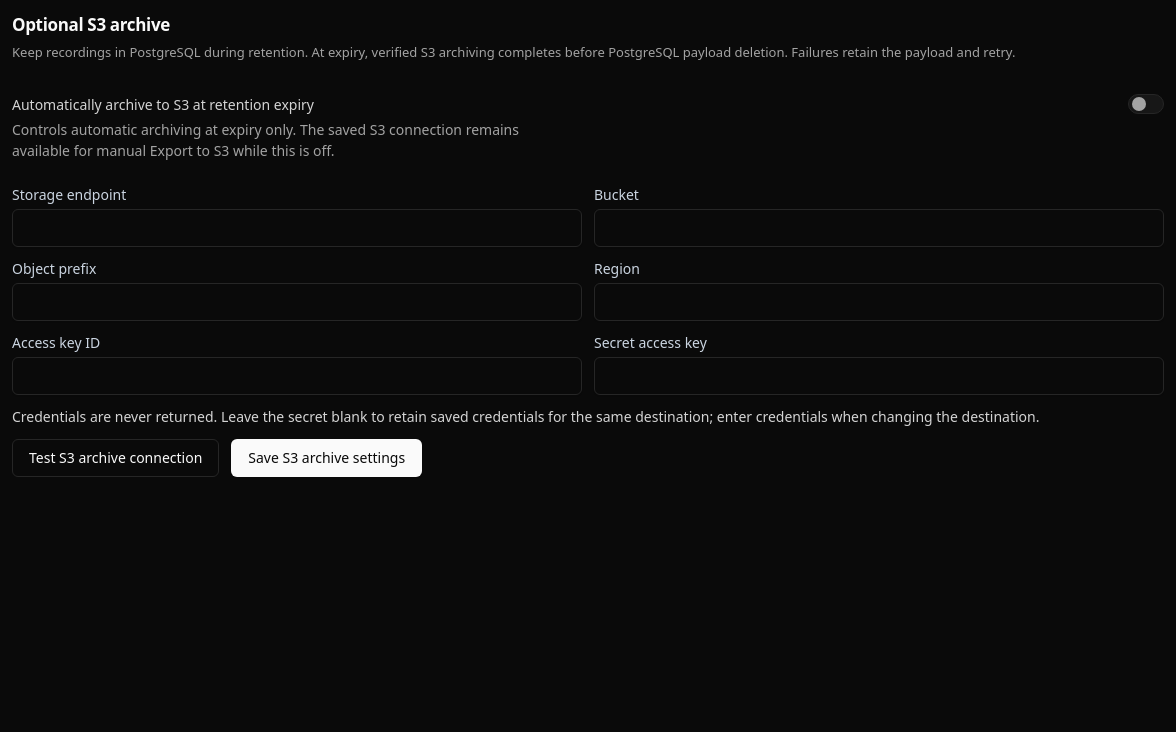
Test case: automatic S3 archive reuses storage validation and omits the primary provider from archive requests
Click the switch at [1146, 104], box [1128,94,1164,114]
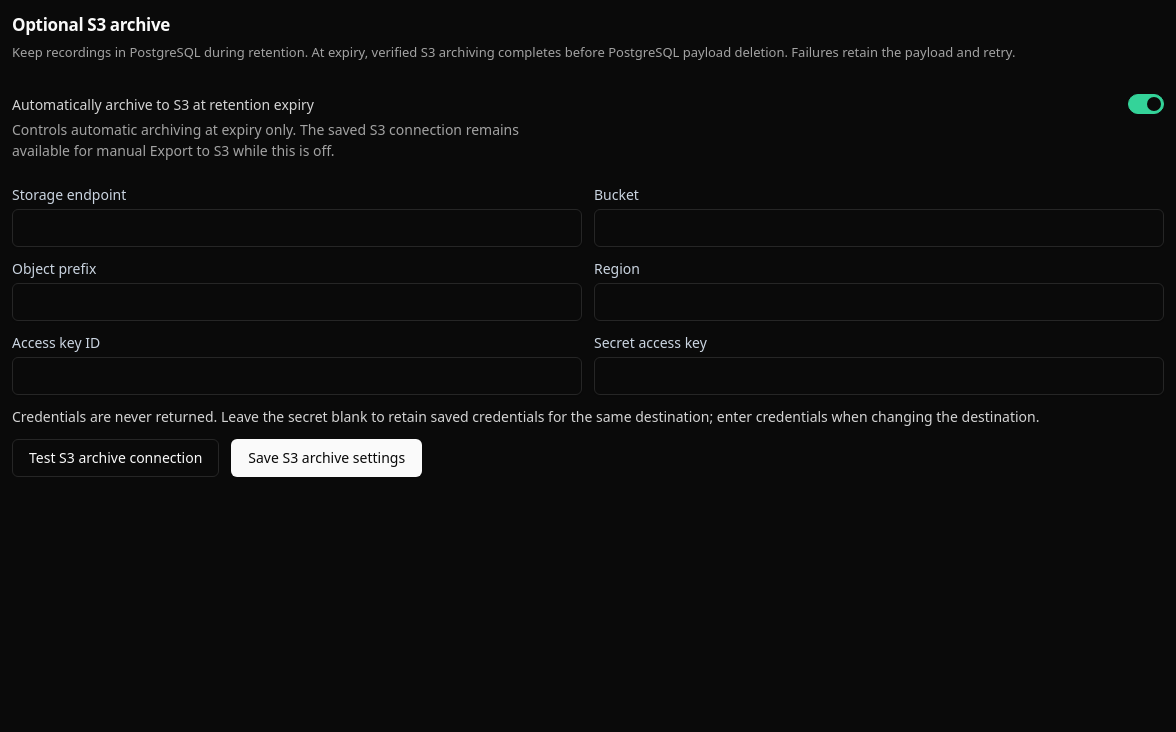
Type "https://archive.local" into the field labelled "Storage endpoint" at [297, 228], box [12,209,582,247]
Type "archives" into the field labelled "Bucket" at [879, 228], box [594,209,1164,247]
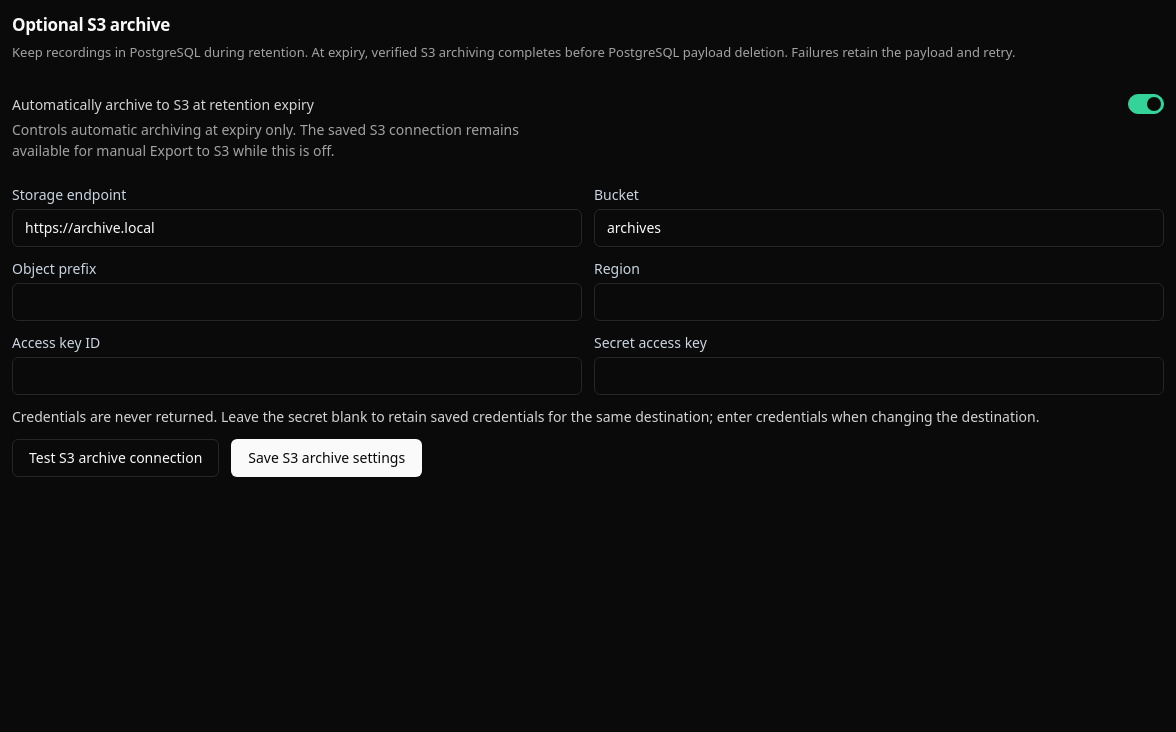
Type "local" into the field labelled "Region" at [879, 302], box [594,283,1164,321]
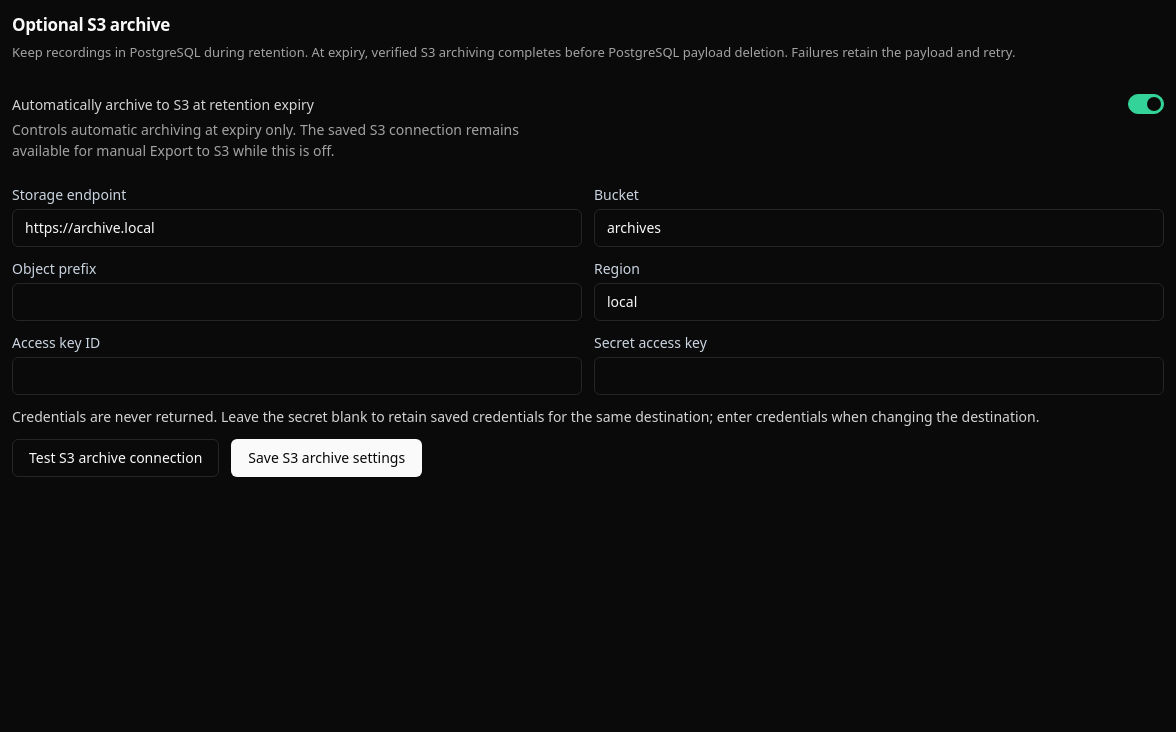
Type "test-id" into the field labelled "Access key ID" at [297, 376], box [12,357,582,395]
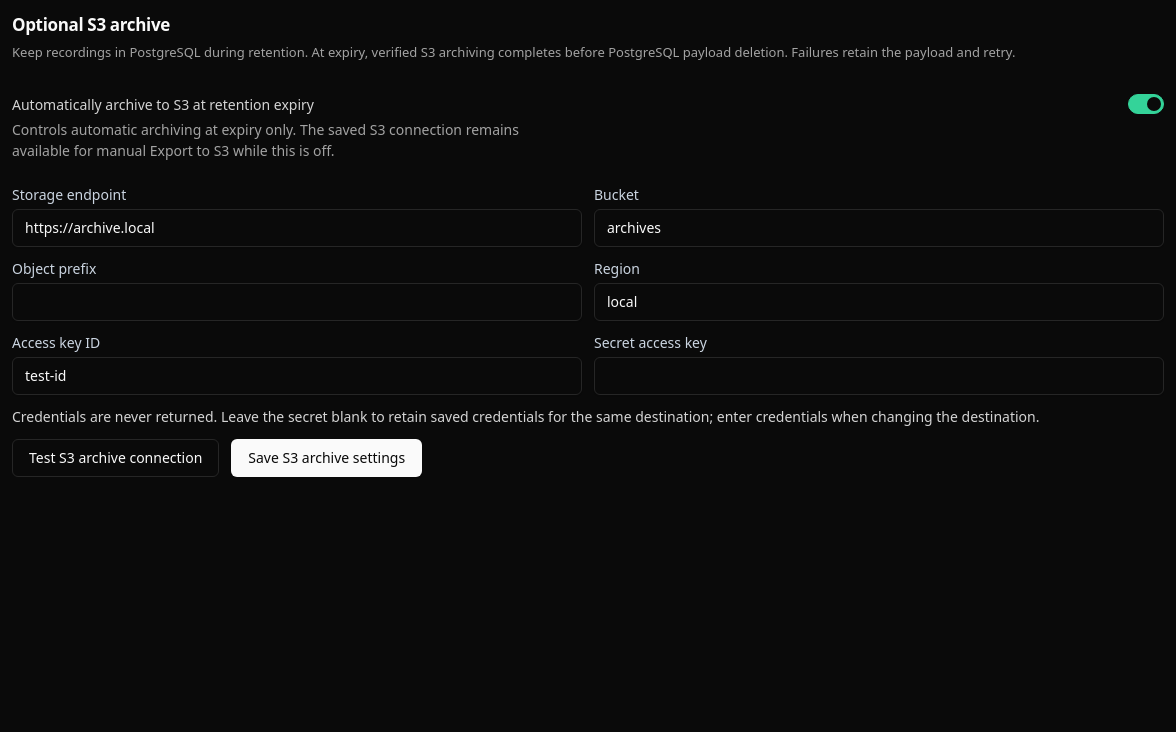
Type "test-secret" into the password field labelled "Secret access key" at [879, 376], box [594,357,1164,395]
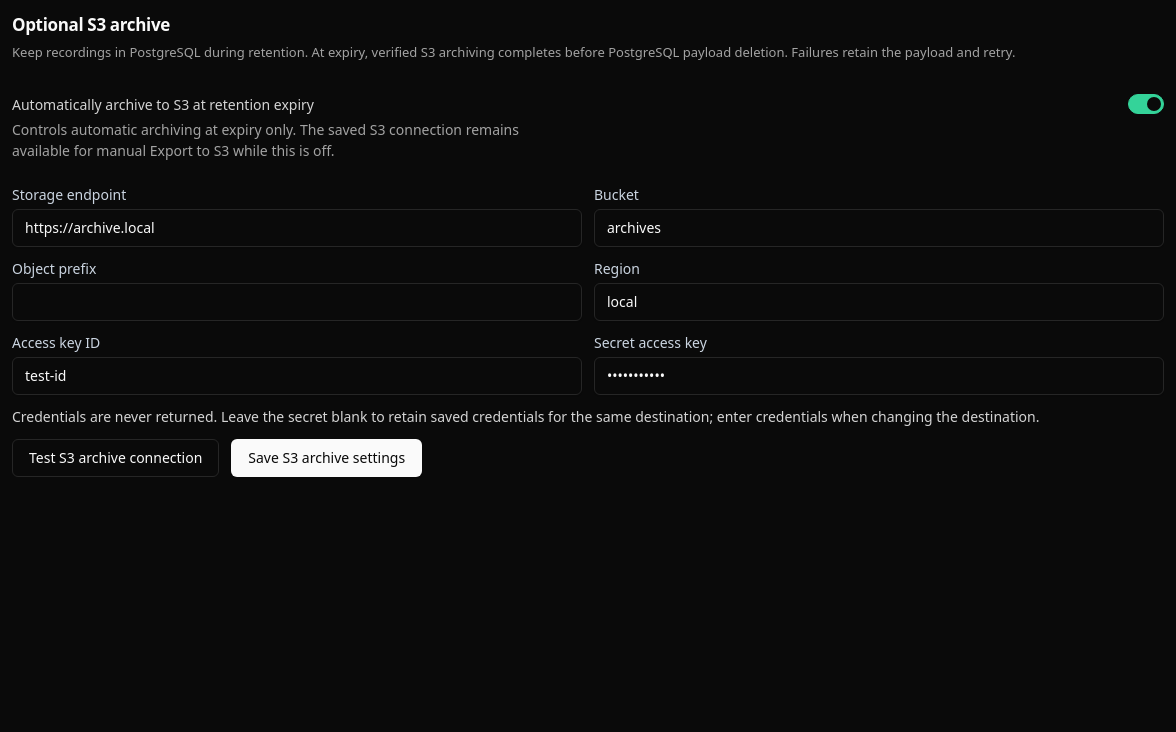
Click the button "Test S3 archive connection" at [116, 458], box [12,439,219,477]
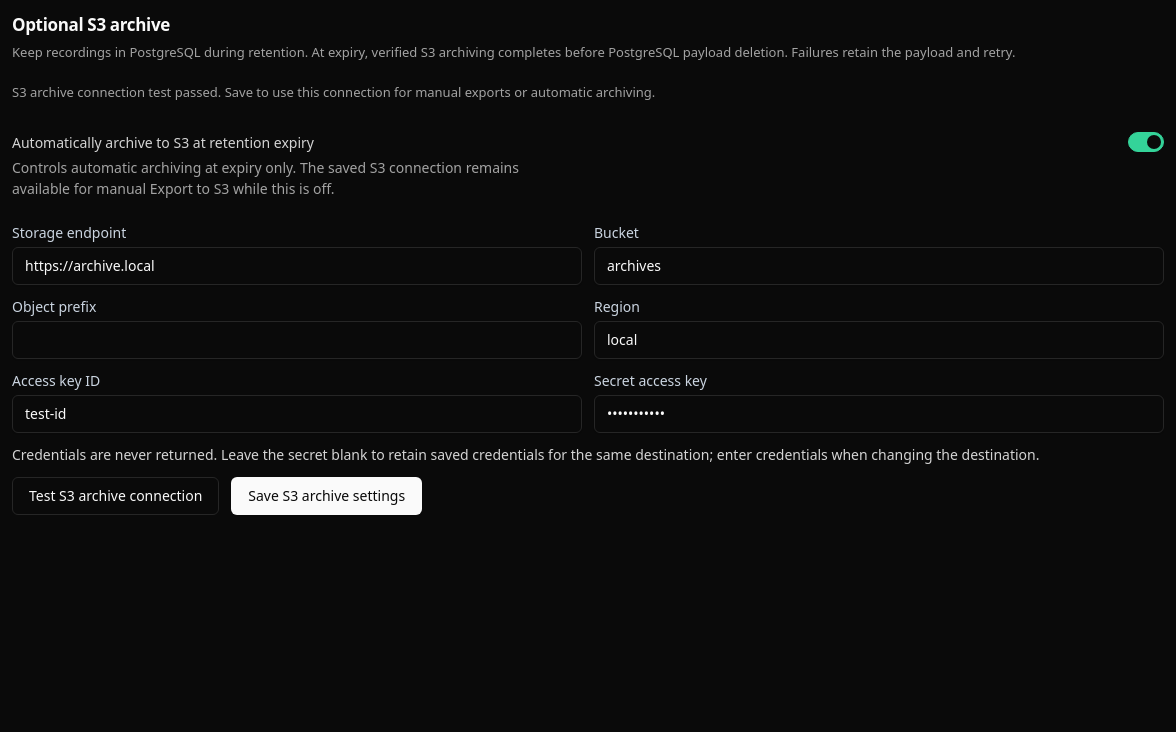
Result: the text "S3 archive connection test passed" is shown at [12,83,655,101]
